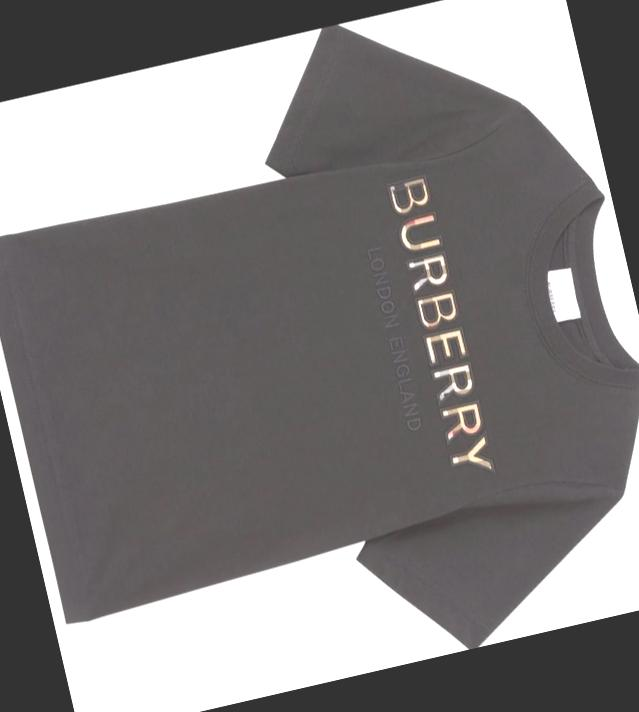BURBERRY: (383, 173, 494, 484)
